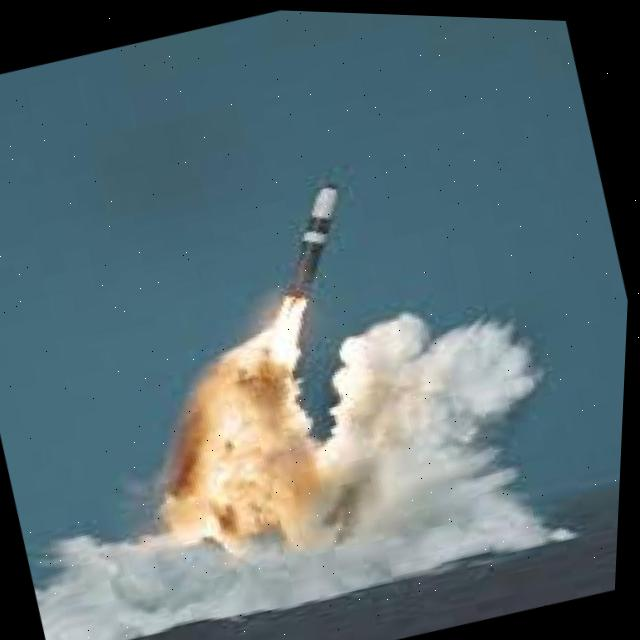missile: (256, 169, 372, 307)
